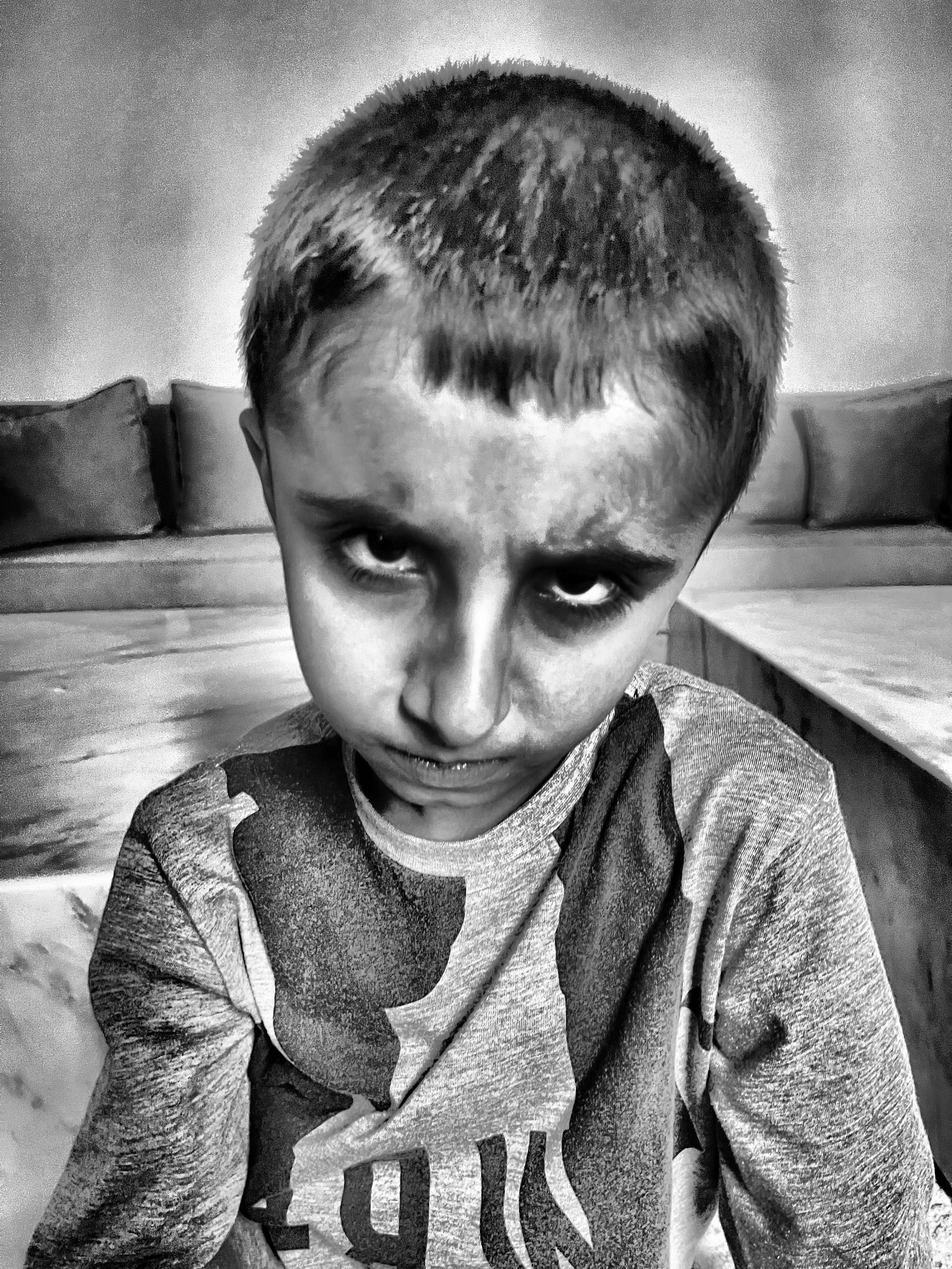angry: (262, 336, 707, 817)
